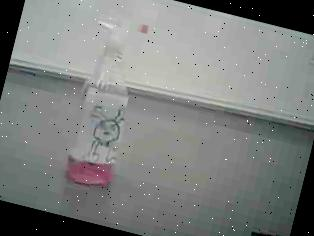hazard: (44, 4, 172, 203)
